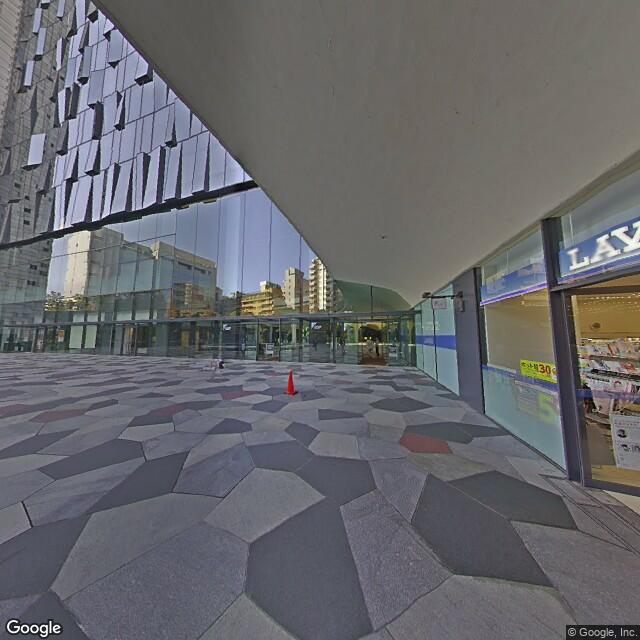lawson: (478, 214, 639, 310)
